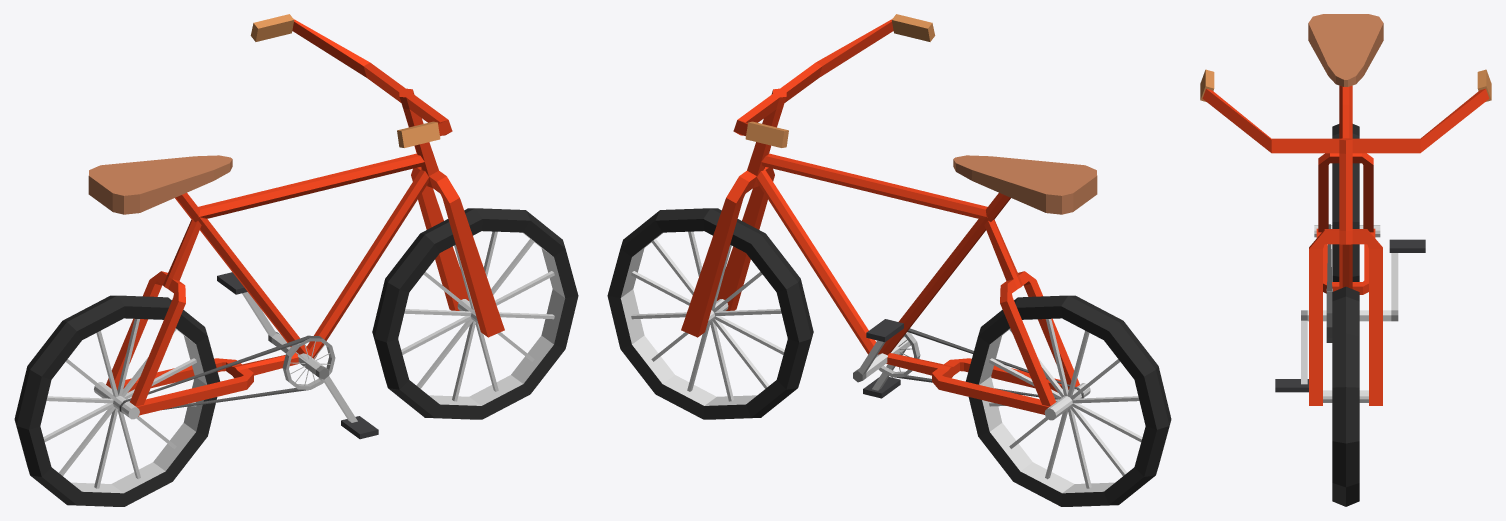
The model's file is Bicycle_01.glb.
3 renders of one model, left to right at view 1: azimuth 30°, elevation 25°; view 2: azimuth 150°, elevation 25°; view 3: azimuth 270°, elevation 25°, orthographic. The views are drawn at different scales.
Visible parts, largest first — view 1: Bicycle_01; view 2: Bicycle_01; view 3: Bicycle_01.
Part boxes in pixels (bbox=[...]): Bicycle_01: bbox=[14, 14, 578, 506]; Bicycle_01: bbox=[607, 14, 1171, 506]; Bicycle_01: bbox=[1200, 14, 1491, 506].
Size of what is drawn, in the model's own units: 1.86 by 1.2 by 0.8841.
Materials: 1 (1 with a texture image).
